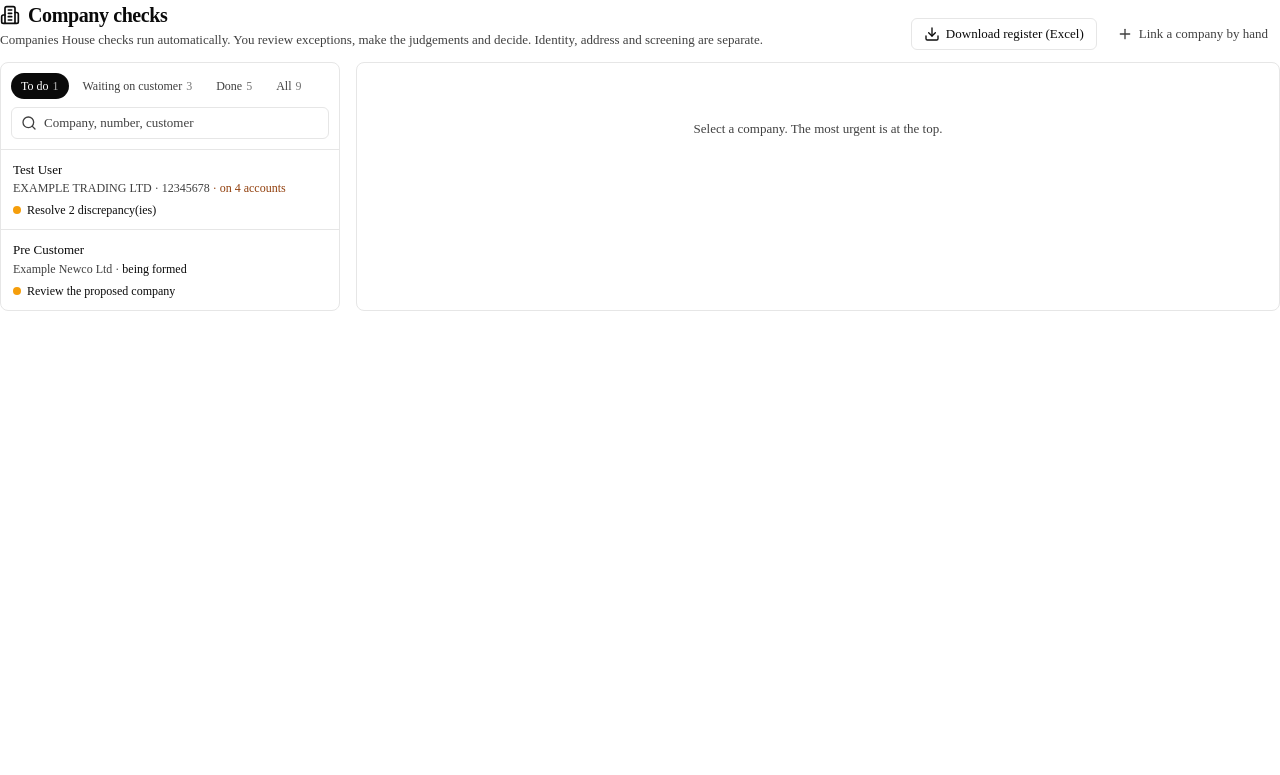
Test: Company checks: admin › warns when the company number is on other accounts
This screenshot has width=1280, height=775.
Click the text "Test User".
click(38, 169)  # box [13,160,62,179]
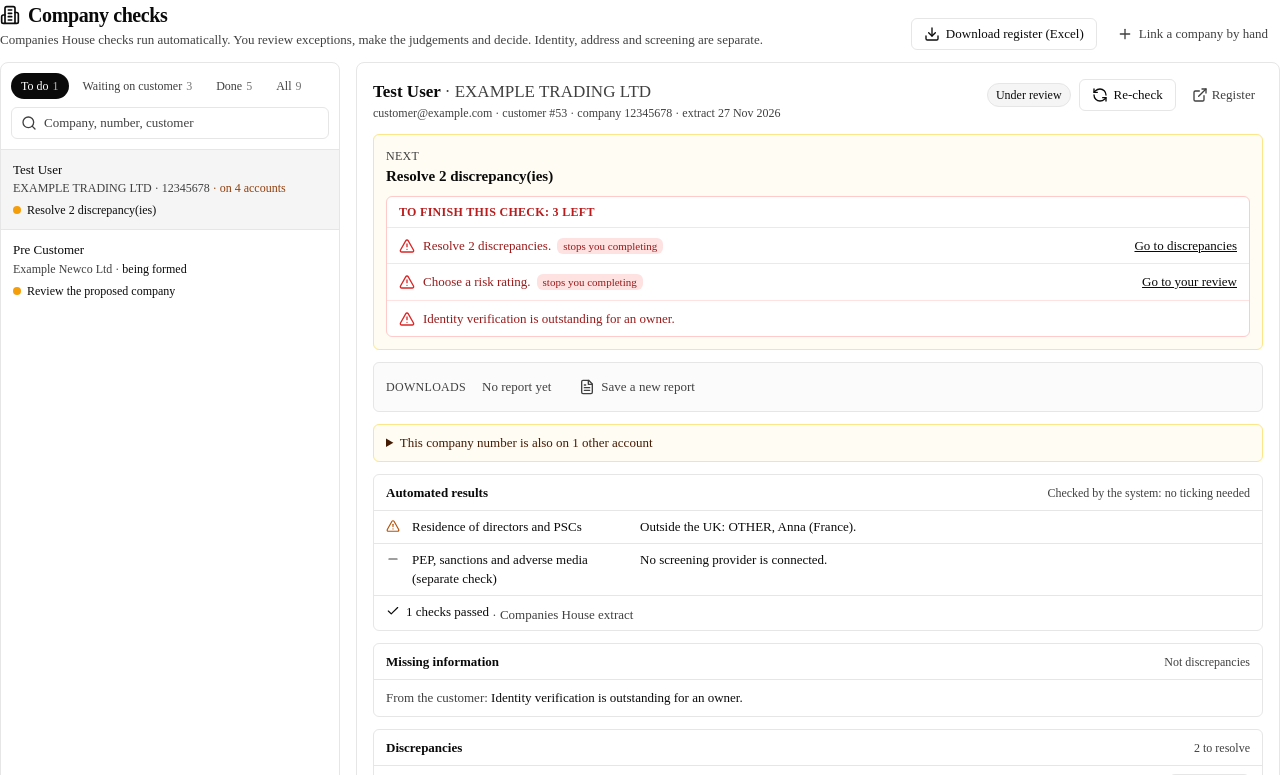
Expected: the text "Automated results" is shown, [386,484,488,500]
Expected: the heading "This company number is also on 1 other account" is shown, [400,435,652,450]
